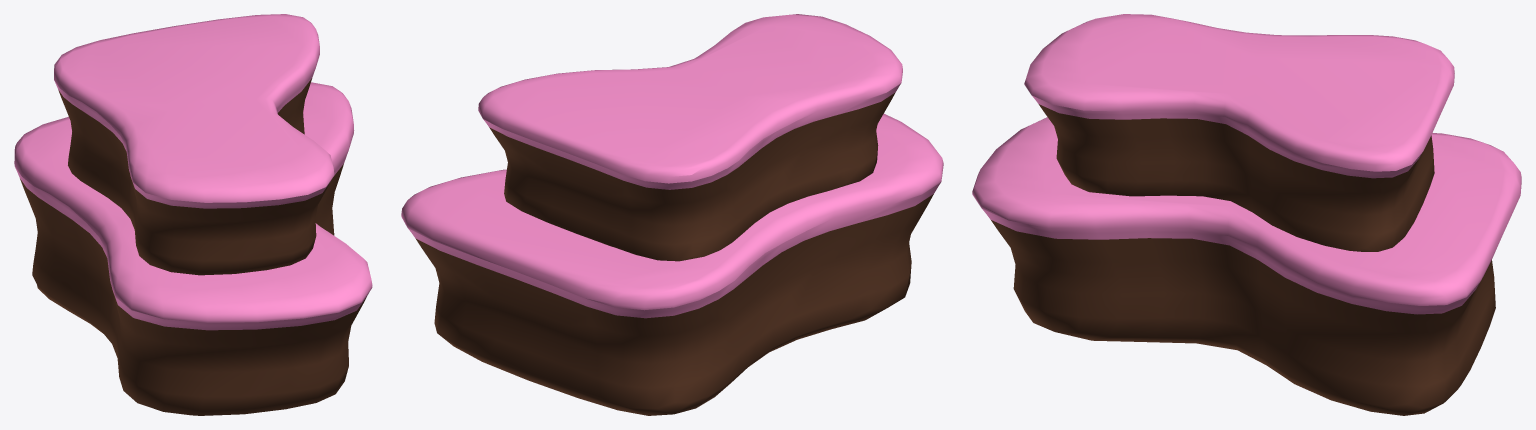
The model's file is Berg_blubliblub.fbx.
3 renders of one model, left to right at view 1: azimuth 30°, elevation 25°; view 2: azimuth 150°, elevation 25°; view 3: azimuth 270°, elevation 25°, orthographic. The views are drawn at different scales.
Parts seen in each view (by area): view 1: Plane_015; view 2: Plane_015; view 3: Plane_015.
Part boxes in pixels (<box>): Plane_015: <box>14,14,372,415</box>; Plane_015: <box>401,14,943,415</box>; Plane_015: <box>972,14,1521,415</box>.
Bounding box in the file's own units: 2249 × 1378 × 2740.
